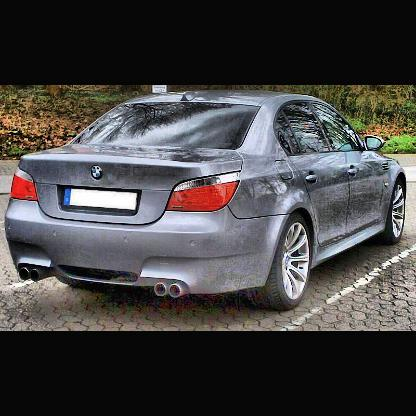BMW M5 Sedan 2010: (7, 91, 408, 312)
